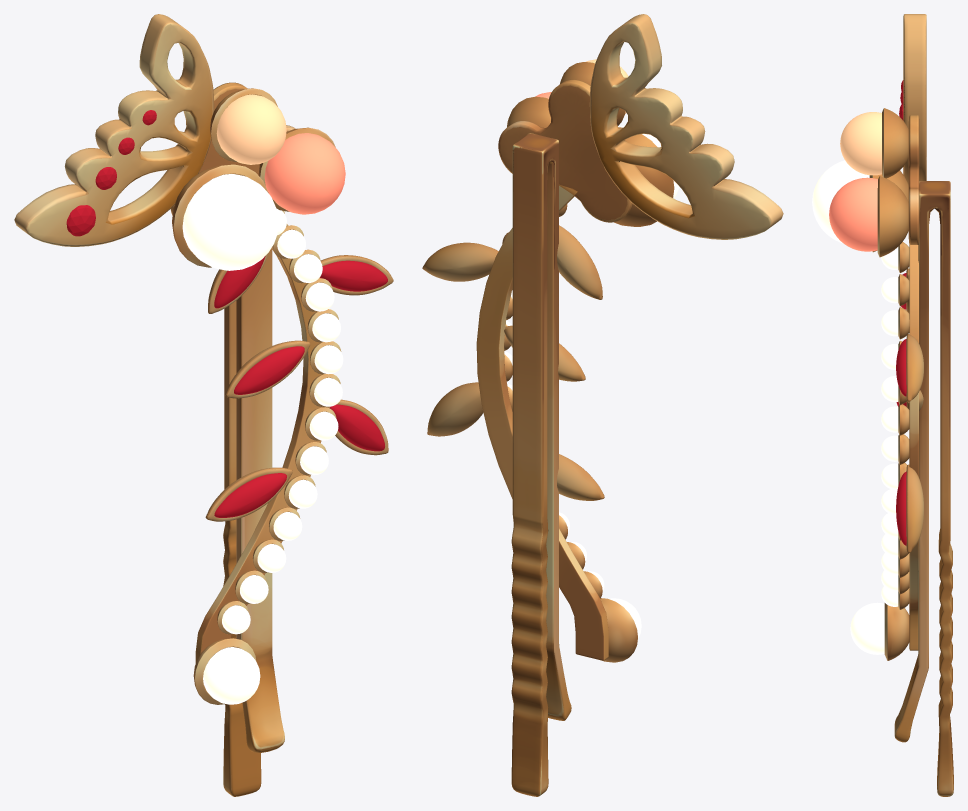
3 renders of one model, left to right at view 1: azimuth 30°, elevation 25°; view 2: azimuth 150°, elevation 25°; view 3: azimuth 270°, elevation 25°, orthographic. The views are drawn at different scales.
Parts seen in each view (by area): view 1: hairakuse; view 2: hairakuse; view 3: hairakuse.
Part boxes in pixels (x1,y1,x2,y2): hairakuse: (14,14,393,796); hairakuse: (422,14,783,796); hairakuse: (812,14,953,796).
Bounding box in the file's own units: 72.64 × 152 × 26.6.
